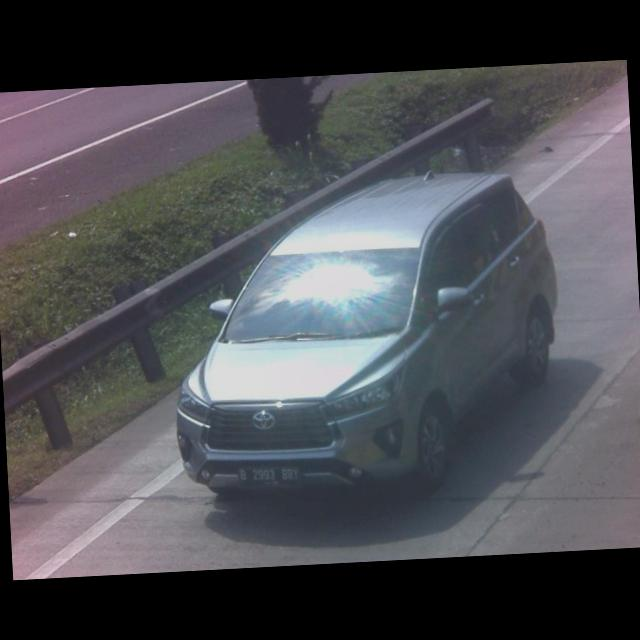plate: (238, 466, 302, 490)
